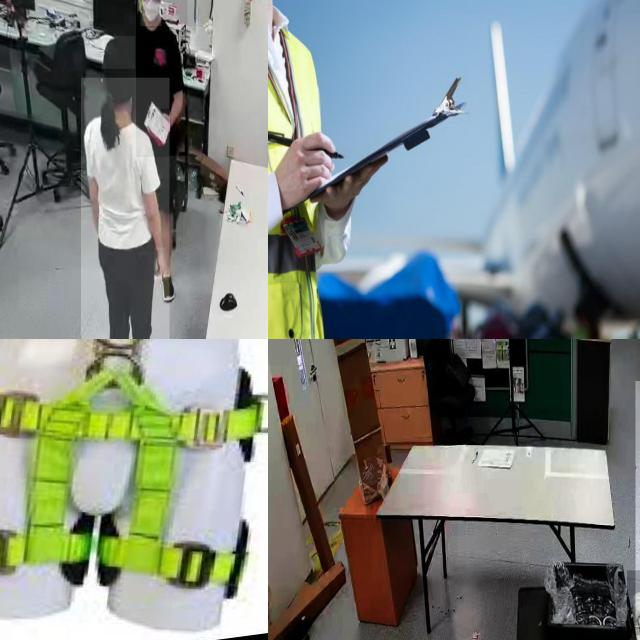Harness: (0, 339, 268, 588)
face_mask: (140, 0, 161, 27)
hand_glove: (627, 570, 640, 635)
hand_noglove: (154, 248, 166, 280), (160, 109, 172, 133)
head_nohelmet: (102, 36, 136, 70)
person: (81, 77, 170, 339), (136, 0, 188, 156)
shoes: (156, 262, 178, 308)
